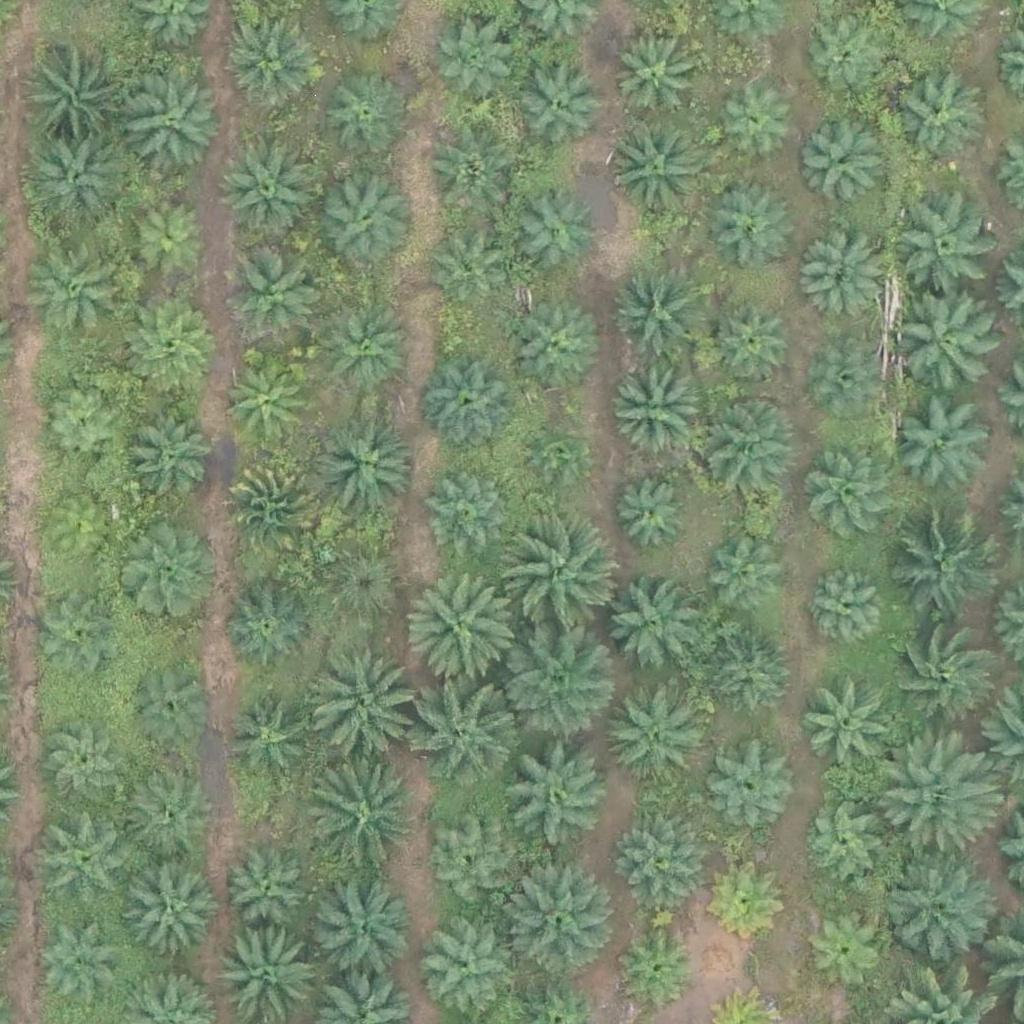Kelapa_Sawit: (305, 651, 418, 765), (888, 289, 1001, 403), (500, 628, 613, 741), (501, 738, 614, 851), (502, 861, 615, 974), (411, 674, 524, 787), (407, 570, 520, 683), (301, 765, 414, 878), (888, 513, 1000, 627), (507, 518, 619, 632), (880, 848, 992, 961), (880, 733, 992, 846), (884, 620, 996, 733), (900, 394, 1000, 495), (799, 678, 899, 779), (694, 394, 794, 495), (603, 682, 703, 783), (421, 354, 521, 455), (313, 411, 413, 512), (310, 881, 410, 982), (30, 131, 130, 232), (26, 245, 126, 346), (123, 292, 223, 393), (126, 68, 226, 169), (222, 240, 322, 341), (225, 14, 325, 115), (315, 163, 415, 264), (313, 296, 413, 397), (607, 122, 707, 223), (610, 262, 710, 363), (885, 72, 985, 173), (900, 197, 1000, 298), (608, 361, 708, 461), (602, 577, 702, 677), (117, 523, 217, 623), (226, 458, 326, 558), (38, 812, 138, 912), (217, 142, 317, 242), (801, 564, 889, 653), (809, 454, 897, 542), (703, 527, 791, 615), (315, 544, 403, 632), (127, 660, 215, 748), (220, 690, 308, 778), (798, 904, 886, 992), (422, 932, 510, 1020), (424, 475, 512, 563), (220, 360, 308, 448), (225, 583, 313, 671), (225, 840, 313, 928), (41, 722, 129, 810), (33, 925, 121, 1013), (321, 74, 409, 162), (435, 18, 523, 106), (428, 132, 516, 220), (517, 62, 605, 150), (509, 191, 597, 279), (38, 381, 126, 469), (706, 632, 793, 720), (801, 802, 888, 890), (616, 812, 703, 900), (703, 743, 790, 831), (428, 821, 515, 909), (120, 411, 207, 499), (126, 769, 213, 857), (34, 593, 121, 681), (129, 870, 216, 958), (29, 67, 116, 155), (30, 494, 117, 582), (128, 191, 215, 279), (426, 227, 513, 315), (516, 307, 603, 395), (614, 35, 701, 123), (709, 299, 796, 387), (709, 181, 796, 269), (716, 77, 803, 165), (803, 17, 890, 105), (802, 126, 889, 214), (799, 234, 886, 322), (613, 477, 688, 553), (813, 344, 888, 420), (622, 928, 697, 1003), (712, 864, 787, 939), (524, 421, 586, 484)
